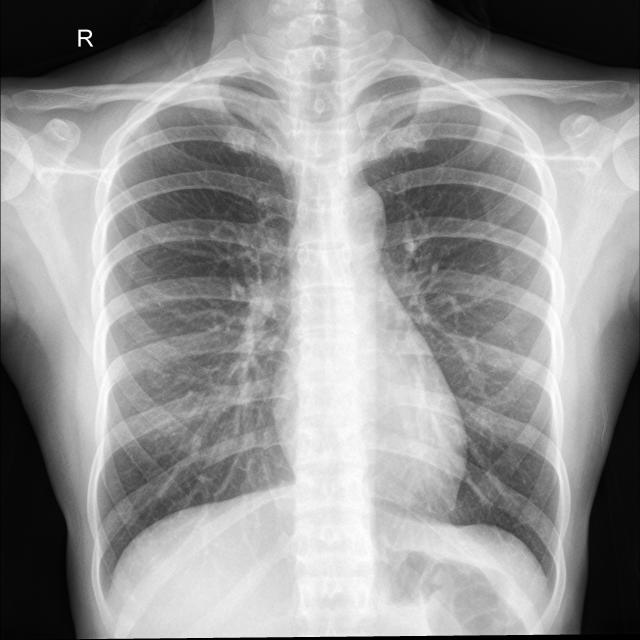no-pneumonia: (359, 77, 561, 572), (98, 76, 298, 568)
